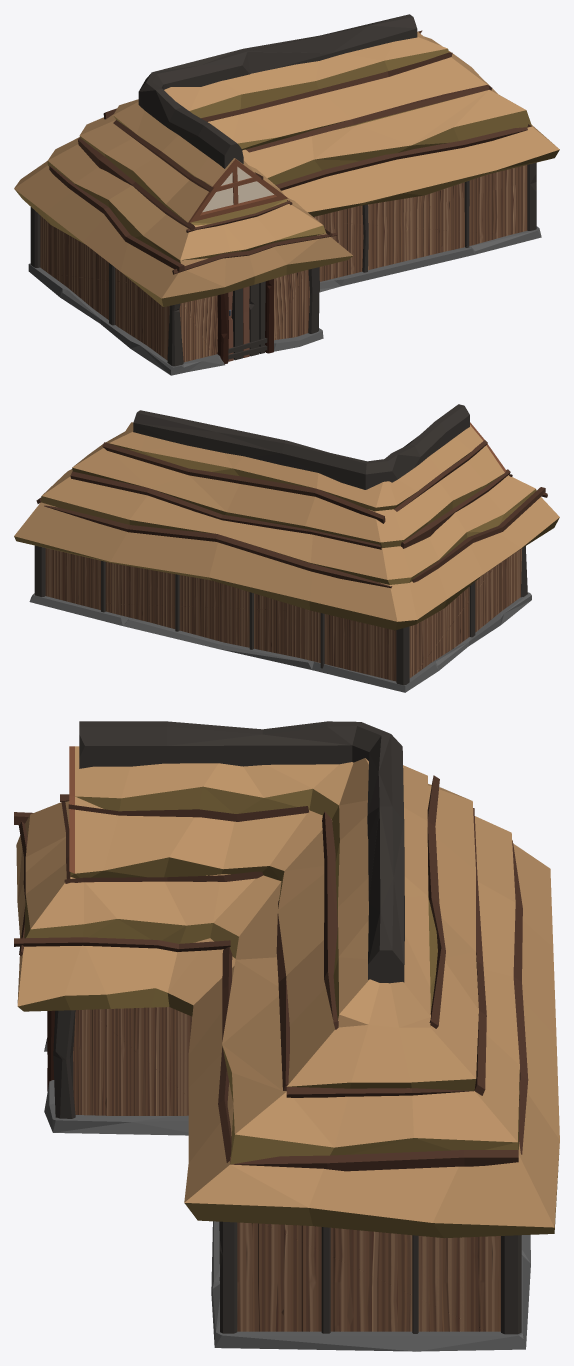
The model's file is Building_9 Asia.fbx.
3 renders of one model, top to bottom at view 1: azimuth 30°, elevation 25°; view 2: azimuth 150°, elevation 25°; view 3: azimuth 270°, elevation 25°, orthographic. The views are drawn at different scales.
Parts seen in each view (by area): view 1: Building_9; view 2: Building_9; view 3: Building_9.
Boxes of the visible parts, x1,y1,x2,y2 form: Building_9: [14, 14, 559, 375]; Building_9: [14, 404, 559, 692]; Building_9: [14, 721, 559, 1351].
Bounding box in the file's own units: 11.93 × 5.24 × 7.52.
